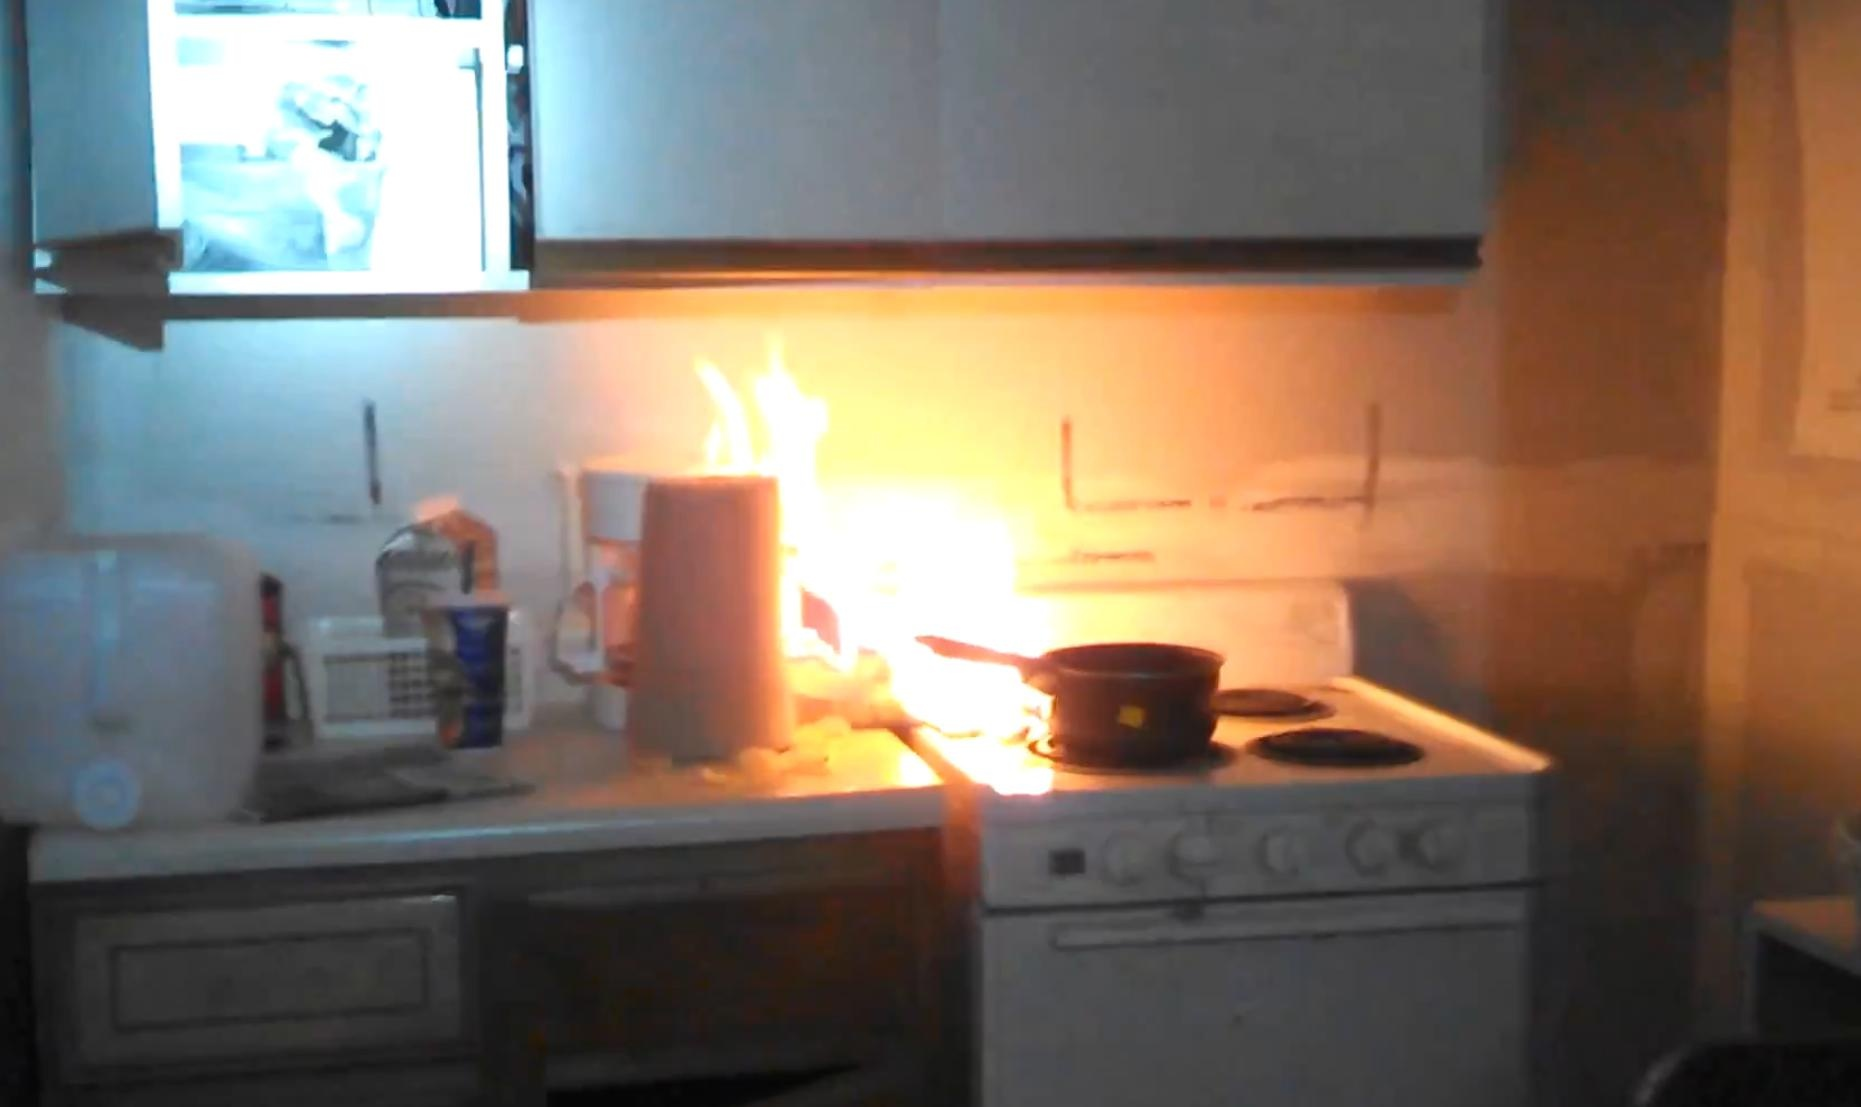fire: (697, 337, 1070, 792)
